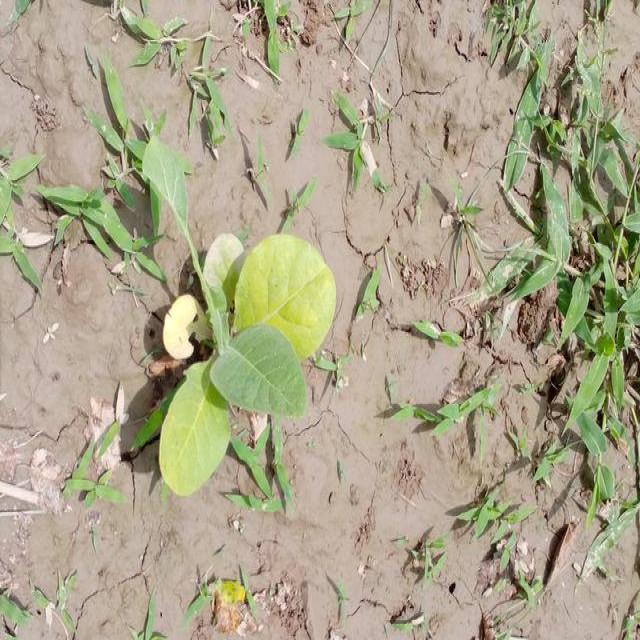crop: (138, 129, 338, 495)
